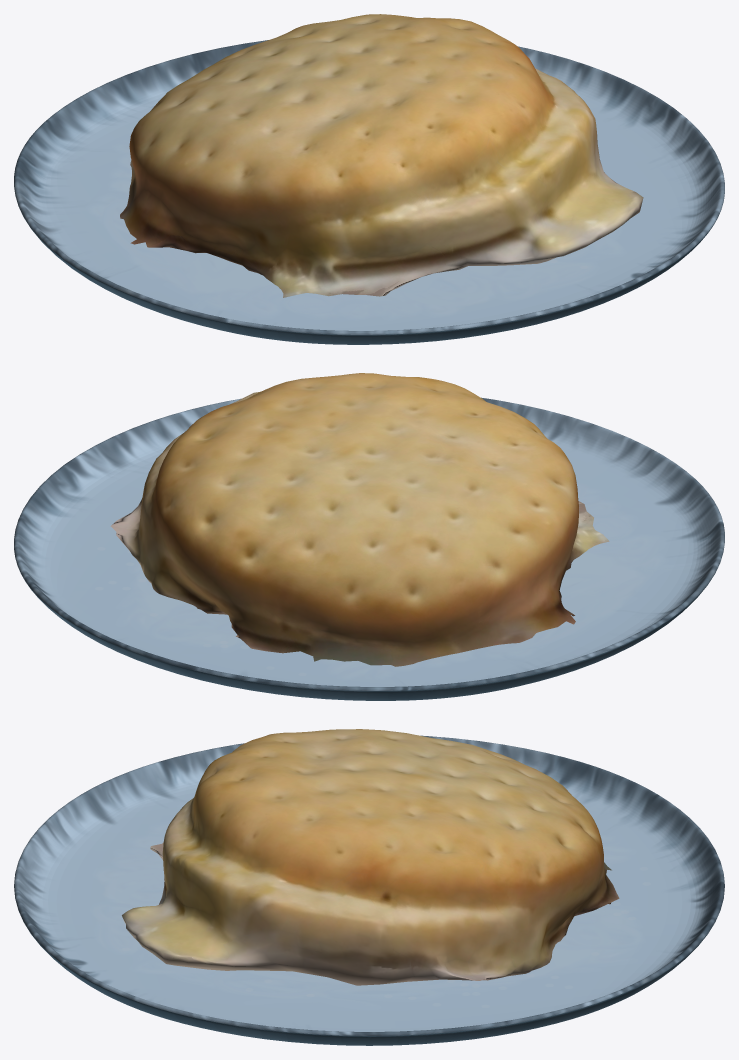
File: PanConQueso.glb
The picture shows the model from 3 angles, top to bottom: view 1: azimuth 30°, elevation 25°; view 2: azimuth 150°, elevation 25°; view 3: azimuth 270°, elevation 25°; orthographic projection.
Parts seen in each view (by area): view 1: 3DModel, Plane; view 2: 3DModel, Plane; view 3: 3DModel, Plane.
Boxes of the visible parts, box(x1,y1,x2,y2) form: 3DModel: box(120, 14, 643, 297); Plane: box(14, 40, 724, 344); 3DModel: box(110, 373, 609, 666); Plane: box(14, 397, 724, 700); 3DModel: box(122, 729, 619, 985); Plane: box(14, 735, 724, 1045).
Bounding box in the file's own units: 0.4706 × 0.105 × 0.4706.
2 materials, 2 textured.
